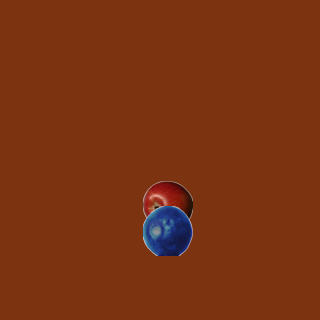Apple Braeburn: (142, 180, 192, 230)
Huckleberry: (142, 205, 192, 255)
